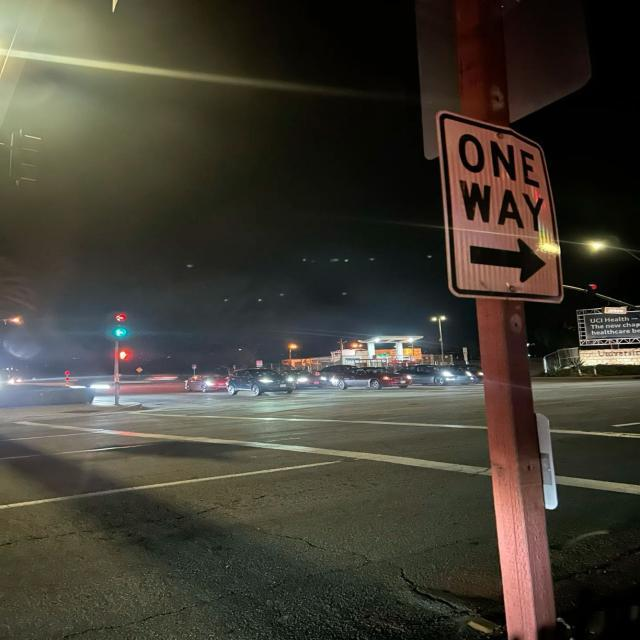on: (0, 0, 118, 226), (110, 289, 179, 395), (530, 208, 628, 275), (278, 319, 307, 364), (297, 324, 328, 325)
